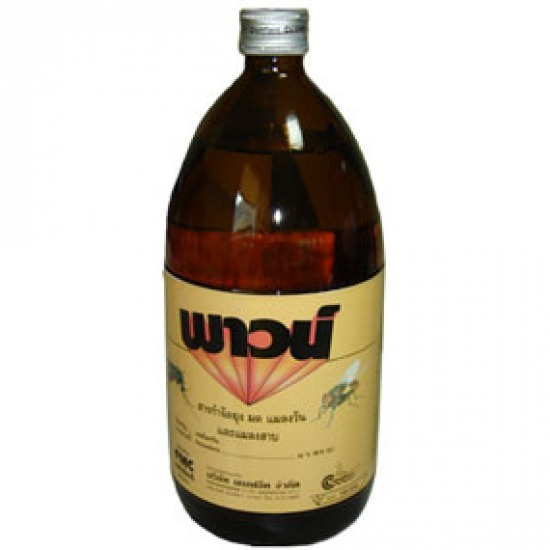Insecticide: (159, 1, 389, 550)
